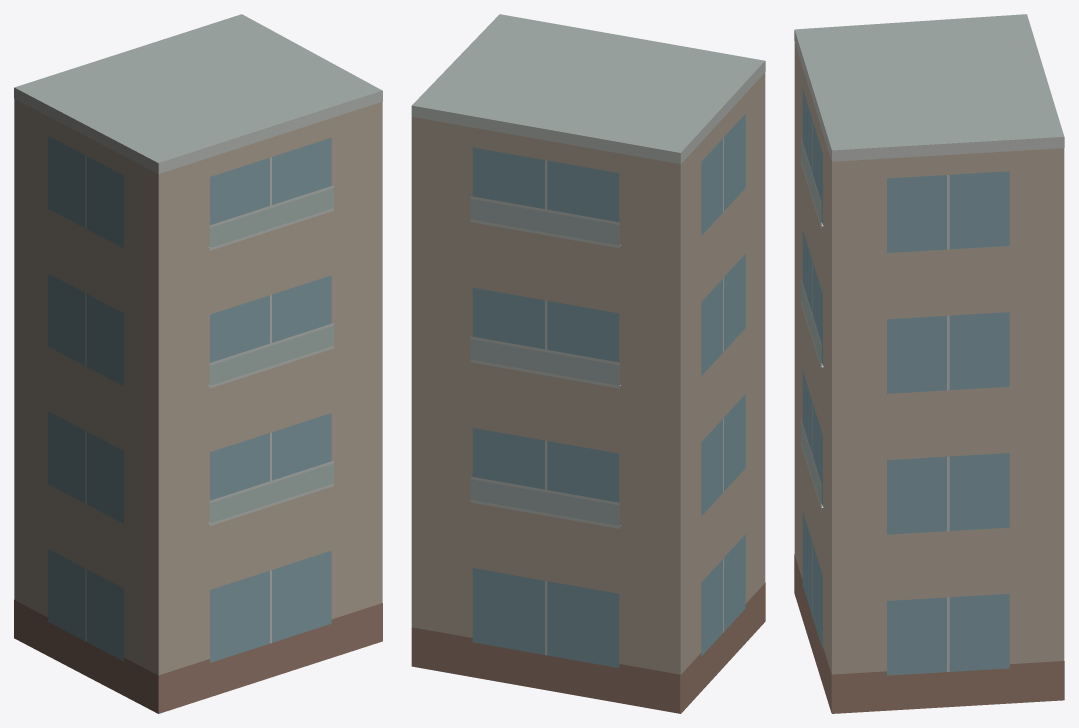
Rendered from survey-upis-32469371.glb.
The picture shows the model from 3 angles, left to right: view 1: azimuth 30°, elevation 25°; view 2: azimuth 150°, elevation 25°; view 3: azimuth 270°, elevation 25°; orthographic projection. The views are drawn at different scales.
Visible parts, largest first — view 1: survey-upis-32469371.tmp; view 2: survey-upis-32469371.tmp; view 3: survey-upis-32469371.tmp.
Boxes of the visible parts, x1,y1,x2,y2 form: survey-upis-32469371.tmp: (14,14,382,713); survey-upis-32469371.tmp: (411,14,765,713); survey-upis-32469371.tmp: (794,14,1064,713).
Size of the model in its own units: 6.35 by 12.2 by 5.31.
